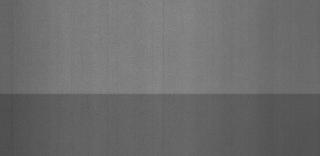welding line: (3, 89, 320, 103)
